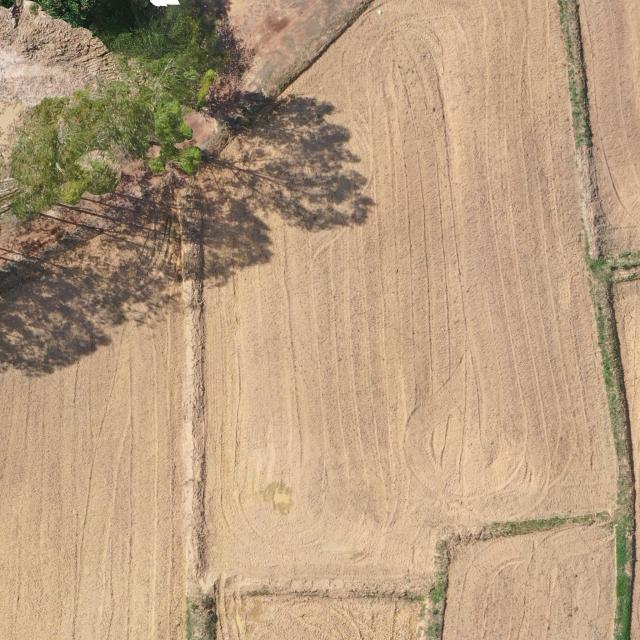tree: (6, 74, 204, 225), (111, 1, 232, 112), (25, 0, 130, 50)
